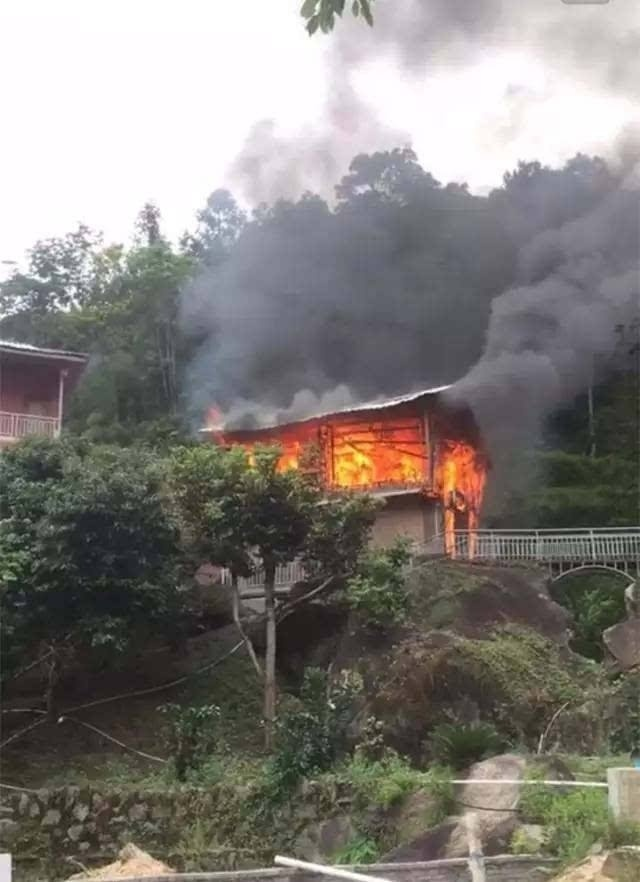fire: (216, 415, 479, 489)
